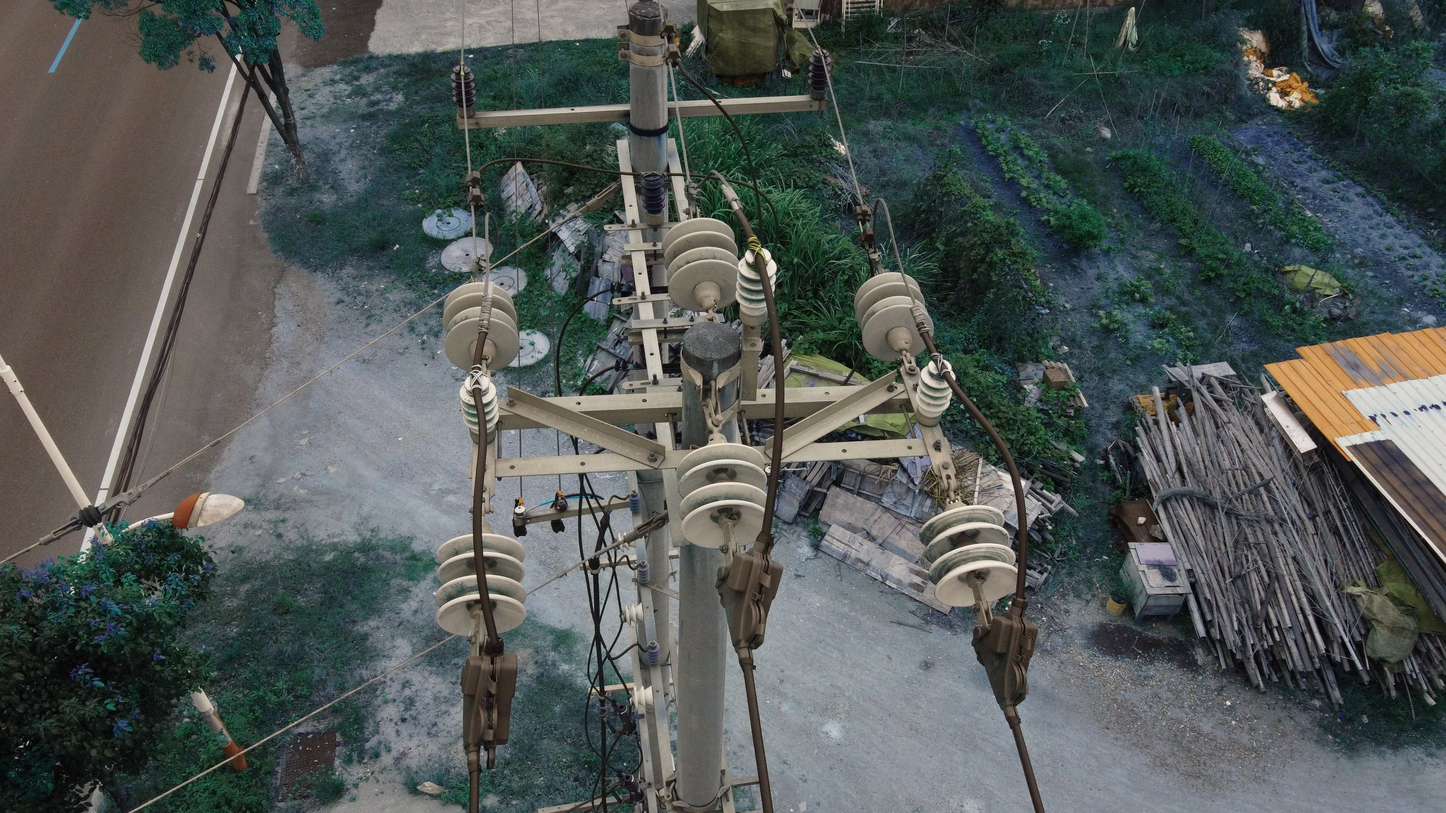severe_soiling_no_discharge_whole: (916, 495, 1019, 613), (432, 522, 531, 643), (674, 431, 771, 554), (656, 217, 737, 316), (734, 244, 783, 329), (910, 357, 958, 428), (455, 374, 500, 449)
